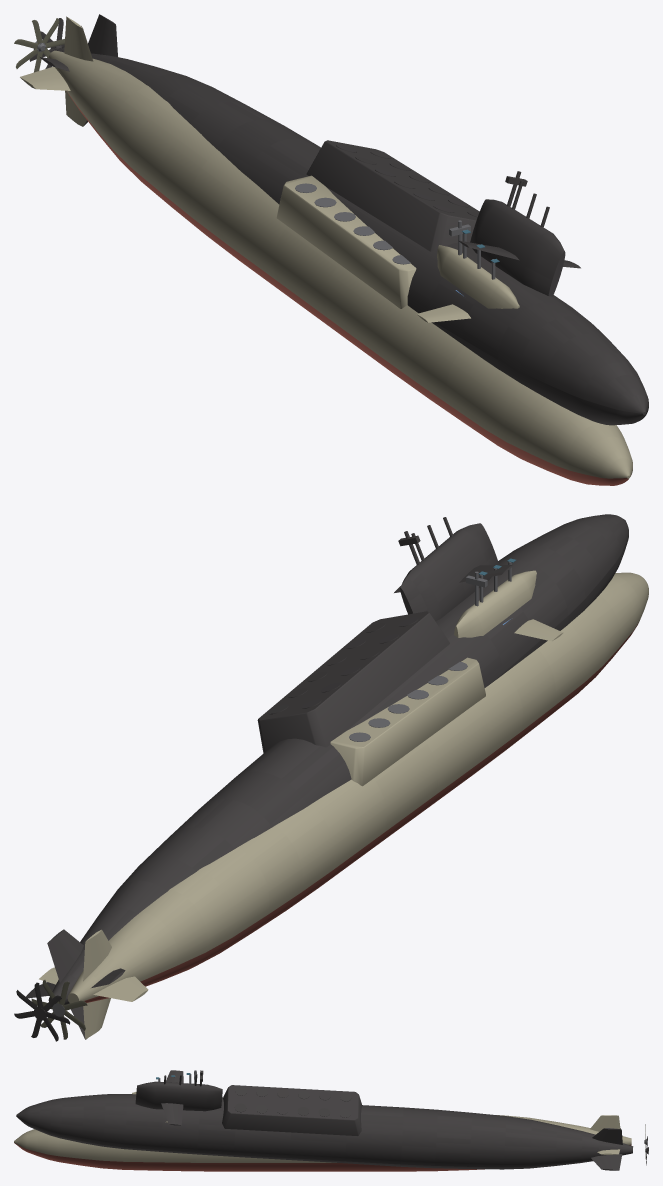
Rendered from nuclearSub__type_094.glb.
The picture shows the model from 3 angles, top to bottom: view 1: azimuth 30°, elevation 25°; view 2: azimuth 150°, elevation 25°; view 3: azimuth 270°, elevation 25°; orthographic projection. The views are drawn at different scales.
Parts seen in each view (by area): view 1: Hull_Mesh, Wreck; view 2: Hull_Mesh, Wreck; view 3: Wreck, Hull_Mesh.
Part boxes in pixels (<box>): Hull_Mesh: <box>14,16,632,485</box>; Wreck: <box>29,14,648,425</box>; Hull_Mesh: <box>31,558,648,1039</box>; Wreck: <box>14,514,628,1041</box>; Wreck: <box>16,1070,648,1170</box>; Hull_Mesh: <box>14,1073,647,1171</box>.
Size of what is drawn, in the model's own units: 20.39 by 26.46 by 133.
